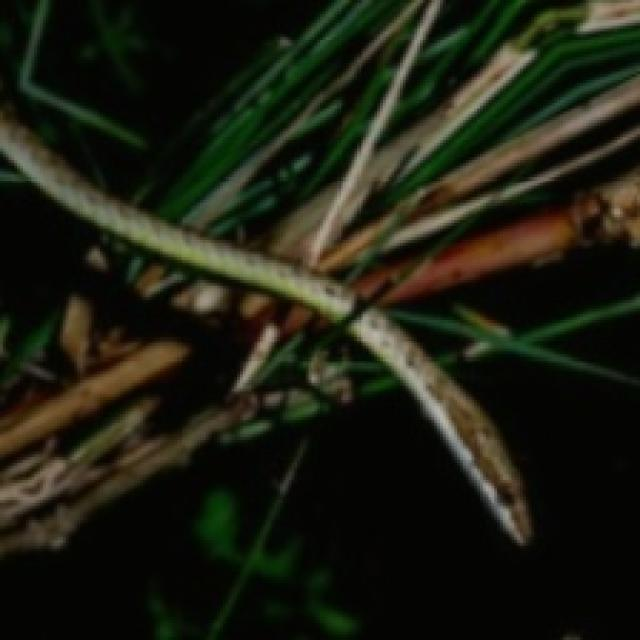philippine whip snake: (31, 337, 186, 420)
